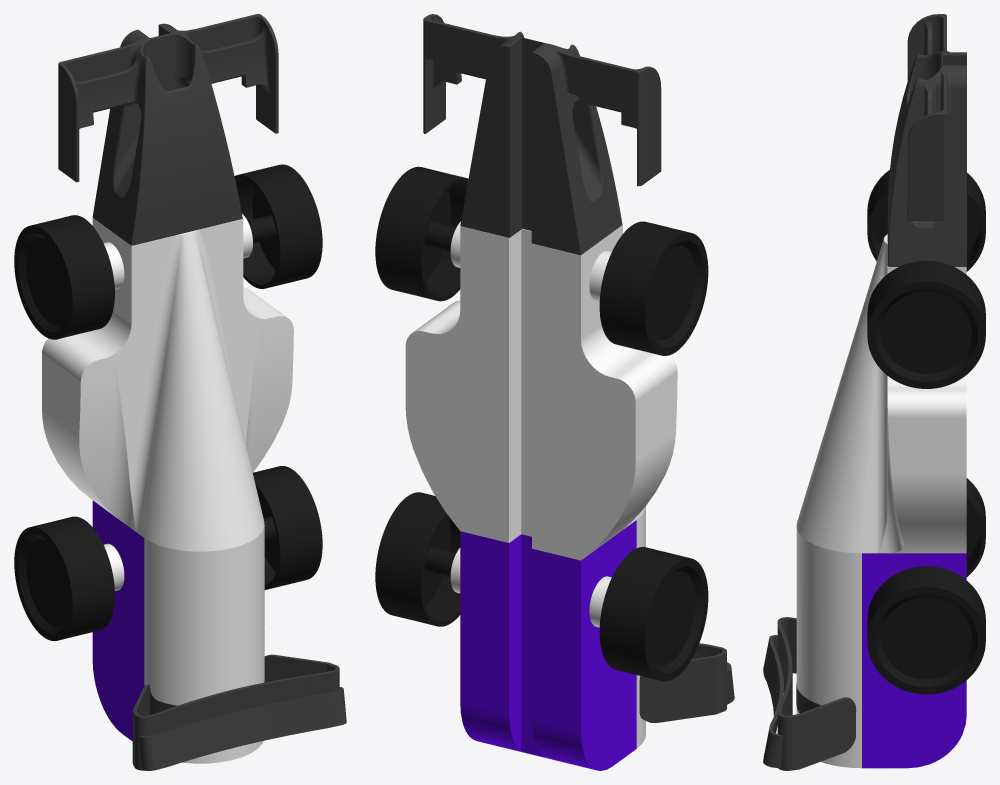
3 renders of one model, left to right at view 1: azimuth 30°, elevation 25°; view 2: azimuth 150°, elevation 25°; view 3: azimuth 270°, elevation 25°, orthographic. The views are drawn at different scales.
Parts seen in each view (by area): view 1: Body1 (×6), Body6, Body7, Alerón (1), Alerón; view 2: Body1 (×6), Body6, Body7, Alerón, Body5; view 3: Body1 (×6), Body6, Body7, Alerón, Alerón (1).
Part boxes in pixels (x1,y1,x2,y2): Body1 (×6): (14,14,322,763); Body6: (42,218,293,537); Body7: (92,500,144,741); Alerón (1): (138,687,346,770); Alerón: (132,654,339,770); Body1 (×6): (375,14,708,748); Body6: (405,224,677,560); Body7: (460,520,636,770); Alerón: (639,643,726,723); Body5: (589,251,611,301); Body1 (×6): (796,14,985,768); Body6: (862,234,966,553); Body7: (862,553,966,768); Alerón: (777,617,856,770); Alerón (1): (763,635,783,767).
Bounding box in the file's own units: 74 × 190 × 56.39.
